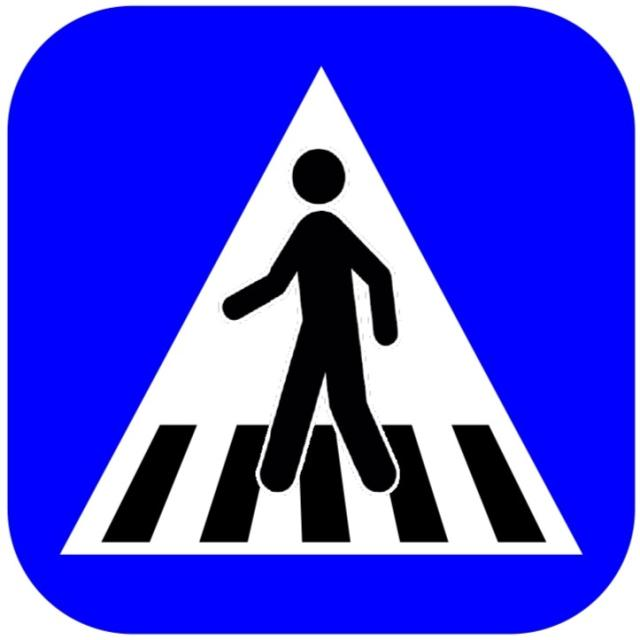crosswalk: (7, 5, 634, 633)
